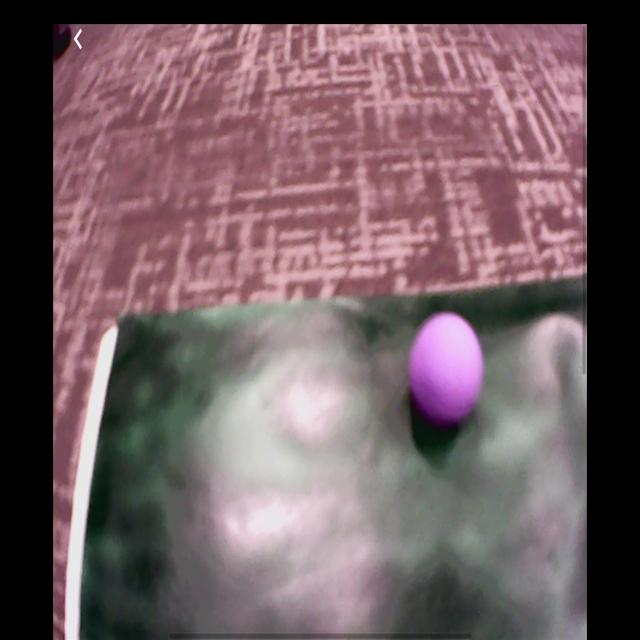ball: (409, 313, 482, 421)
